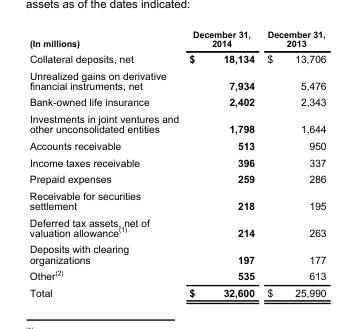table: (28, 28, 325, 297)
table column: (28, 28, 183, 297), (183, 28, 260, 297), (260, 28, 325, 297)
table column header: (28, 28, 325, 50)
table row: (28, 66, 325, 93), (28, 110, 325, 137), (28, 186, 325, 213), (28, 213, 325, 240), (28, 240, 325, 266), (28, 28, 325, 50), (28, 93, 325, 110), (28, 153, 325, 170), (28, 266, 325, 283), (28, 50, 325, 66), (28, 137, 325, 153), (28, 170, 325, 186), (28, 283, 325, 297)
